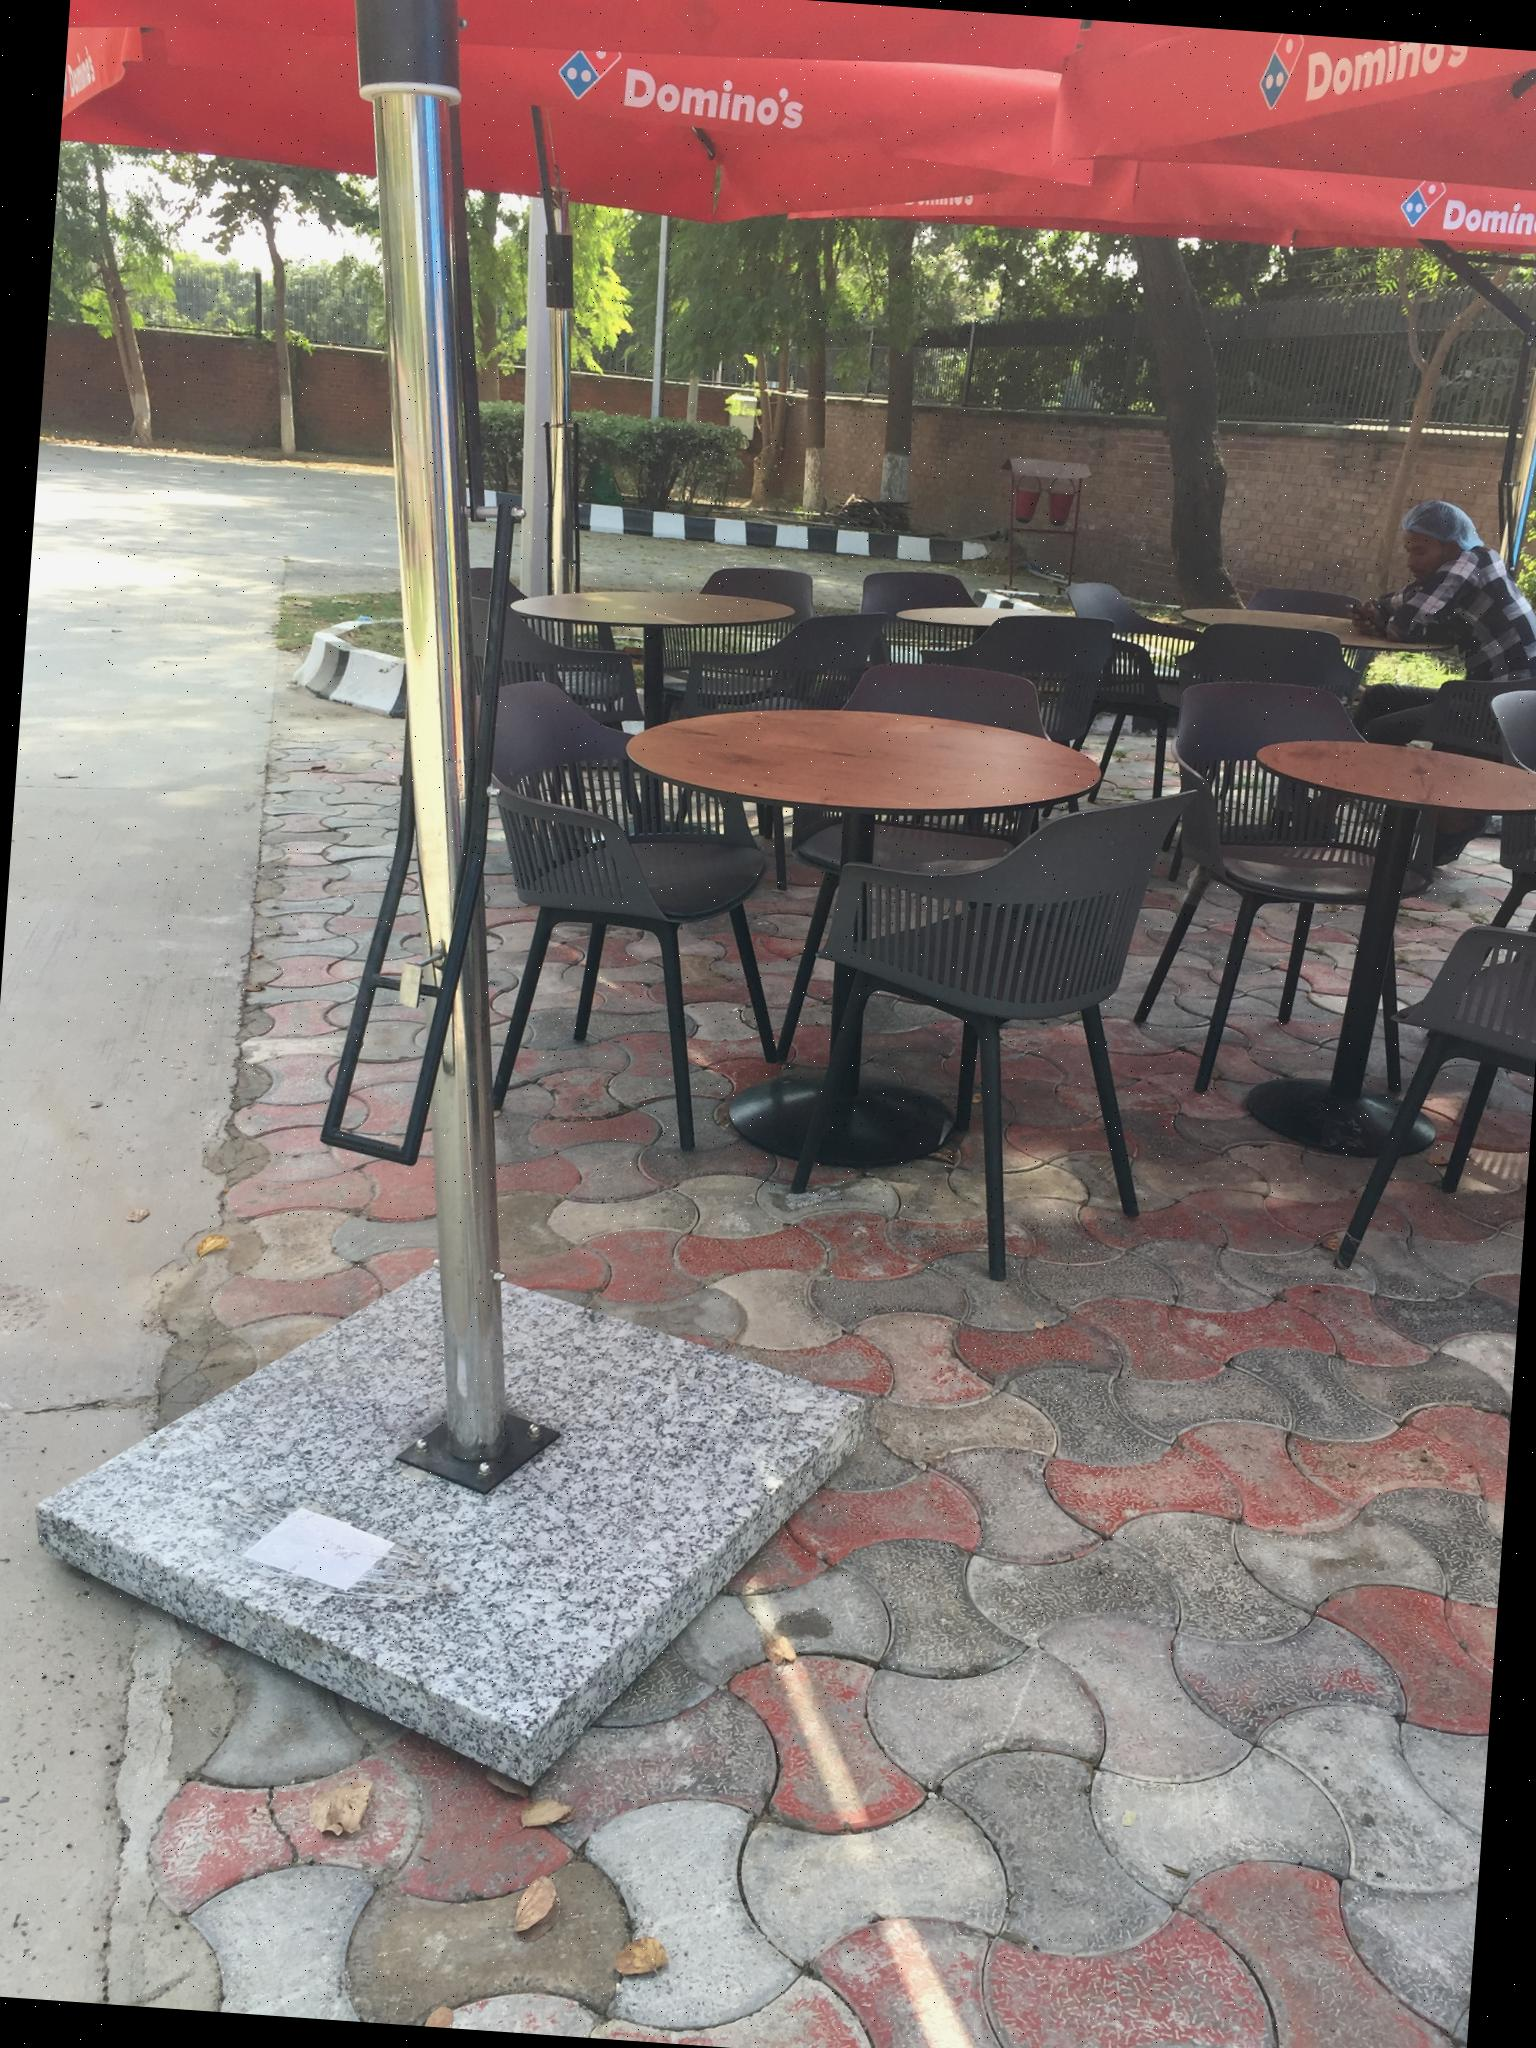chair: (715, 756, 1202, 1293), (461, 676, 803, 1158), (1129, 672, 1441, 1108), (773, 655, 1050, 1082), (1333, 913, 1536, 1280), (908, 605, 1117, 839), (1083, 566, 1225, 800), (432, 572, 642, 729), (671, 548, 836, 677), (1179, 626, 1350, 735), (1473, 684, 1536, 934), (857, 568, 983, 658)
